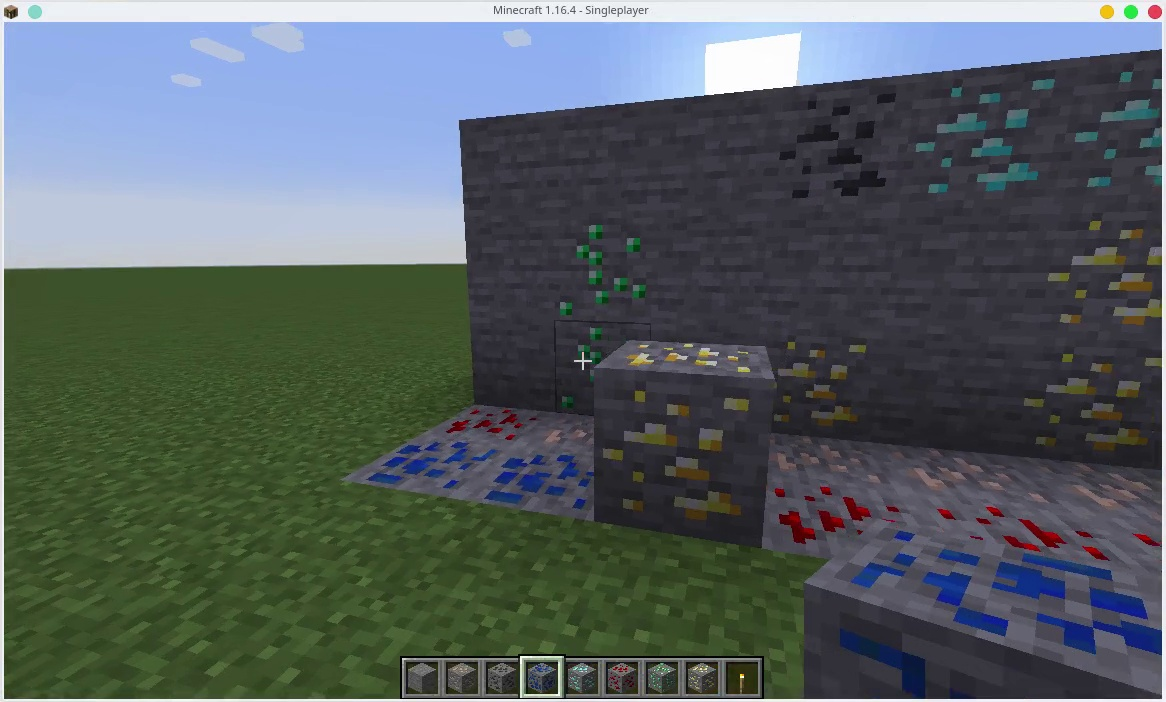gold: (615, 337, 766, 550), (1018, 336, 1163, 458), (1027, 220, 1166, 335), (782, 342, 878, 437), (685, 665, 715, 696)
